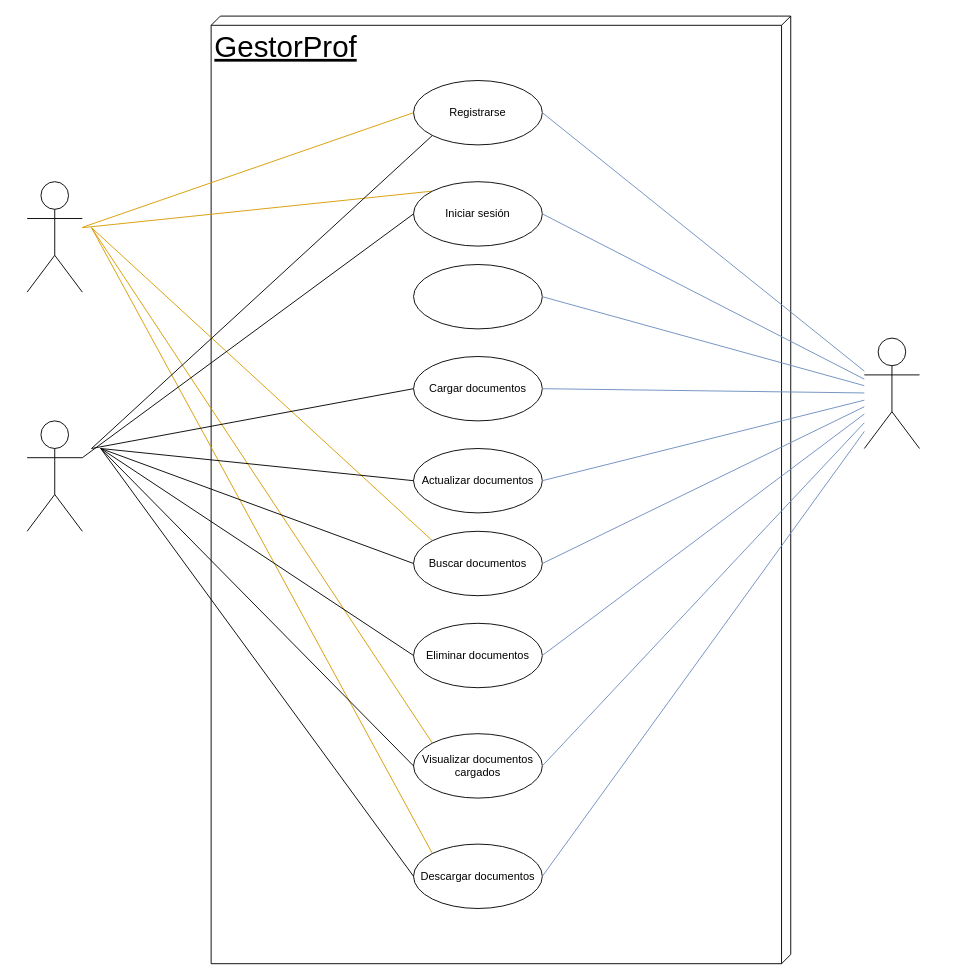
Image size: 959x980. Some labels were removed from this diagram. Each missing label, with the centre of its shape:
"Administrador" belongs at point (891, 392).
"Crear usuario" belongs at point (477, 296).
"Estudiante" belongs at point (54, 236).
"Profesor" belongs at point (54, 475).
